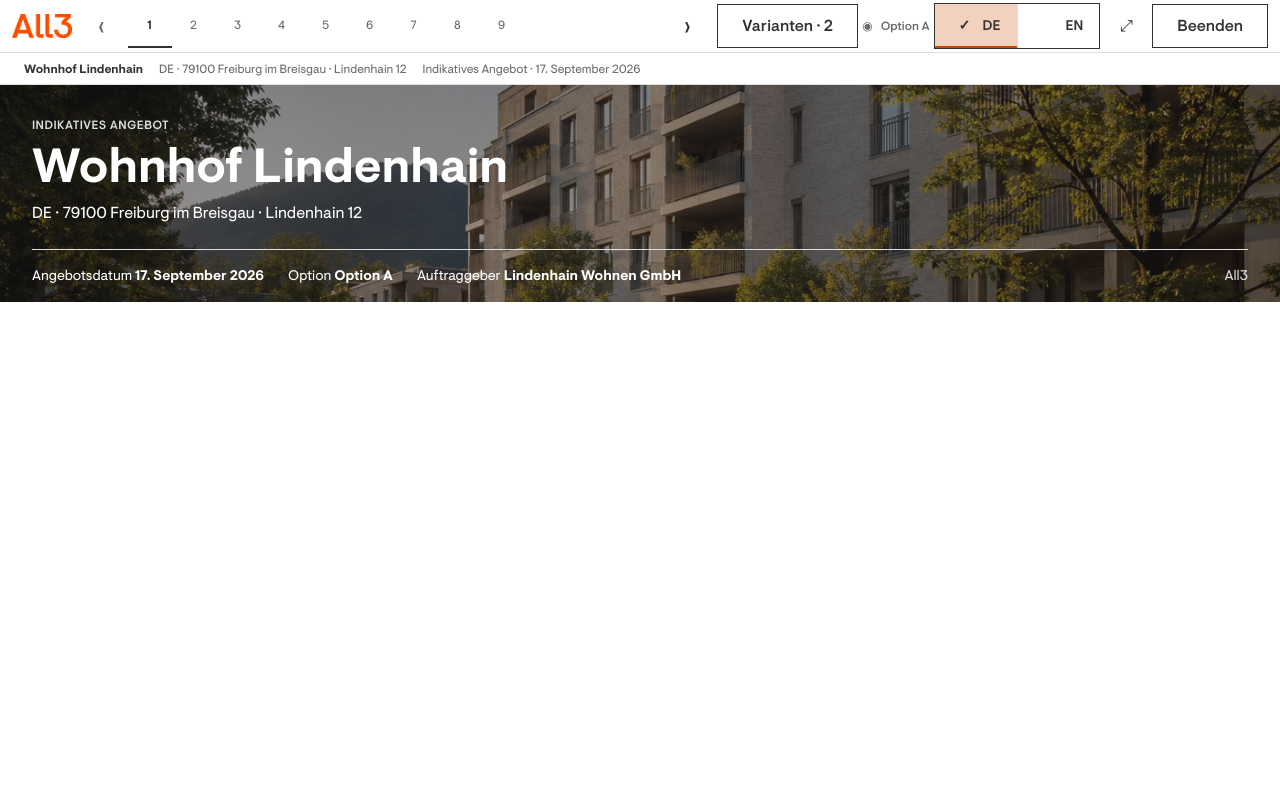
Test case: PresentationShell — mandatory Client Option Isolation Test (AC 5/15/16/21) › the Varianten layer is the ONE switch control: it keeps the chapter position and there is no second switcher in the bar
Click the button named "· Preiszusammensetzung" at x=282, y=26, box [260,4,304,48]
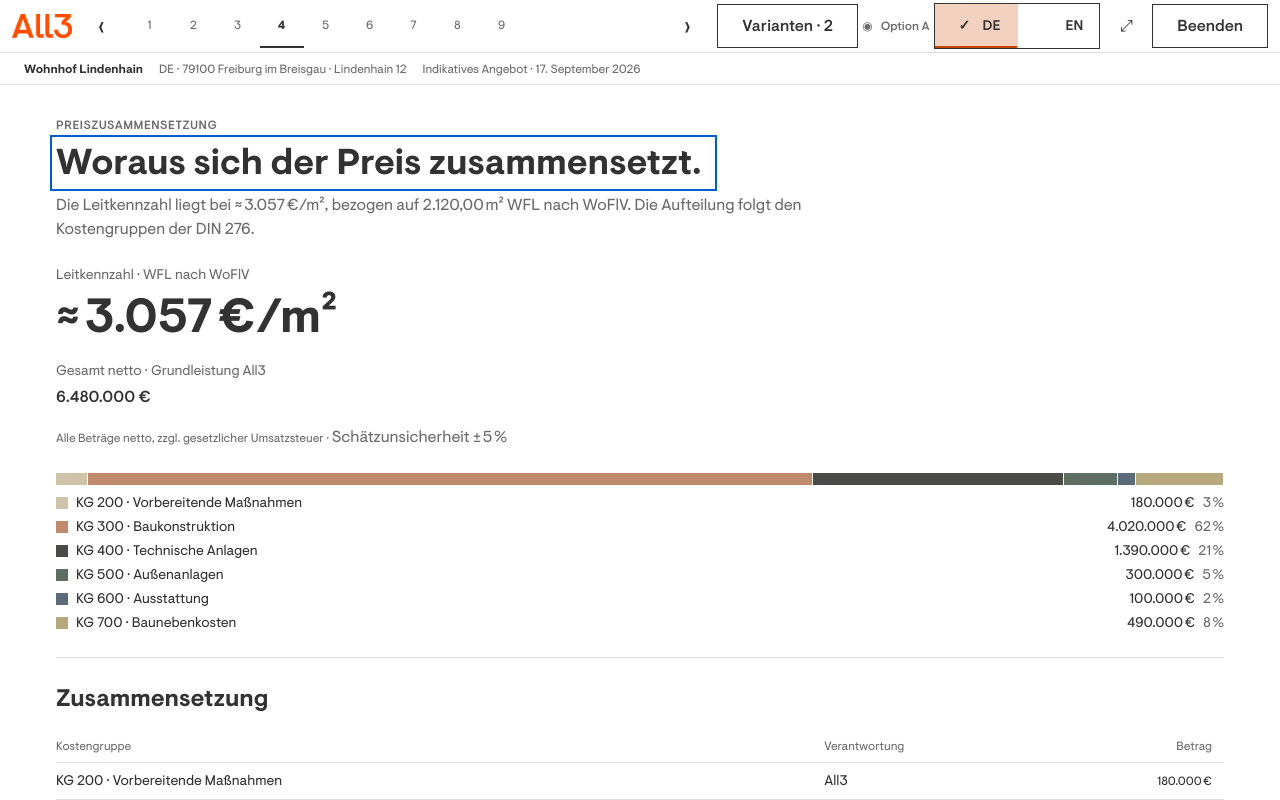
Click the button "Varianten · 2" at x=788, y=26, box [717,4,858,48]
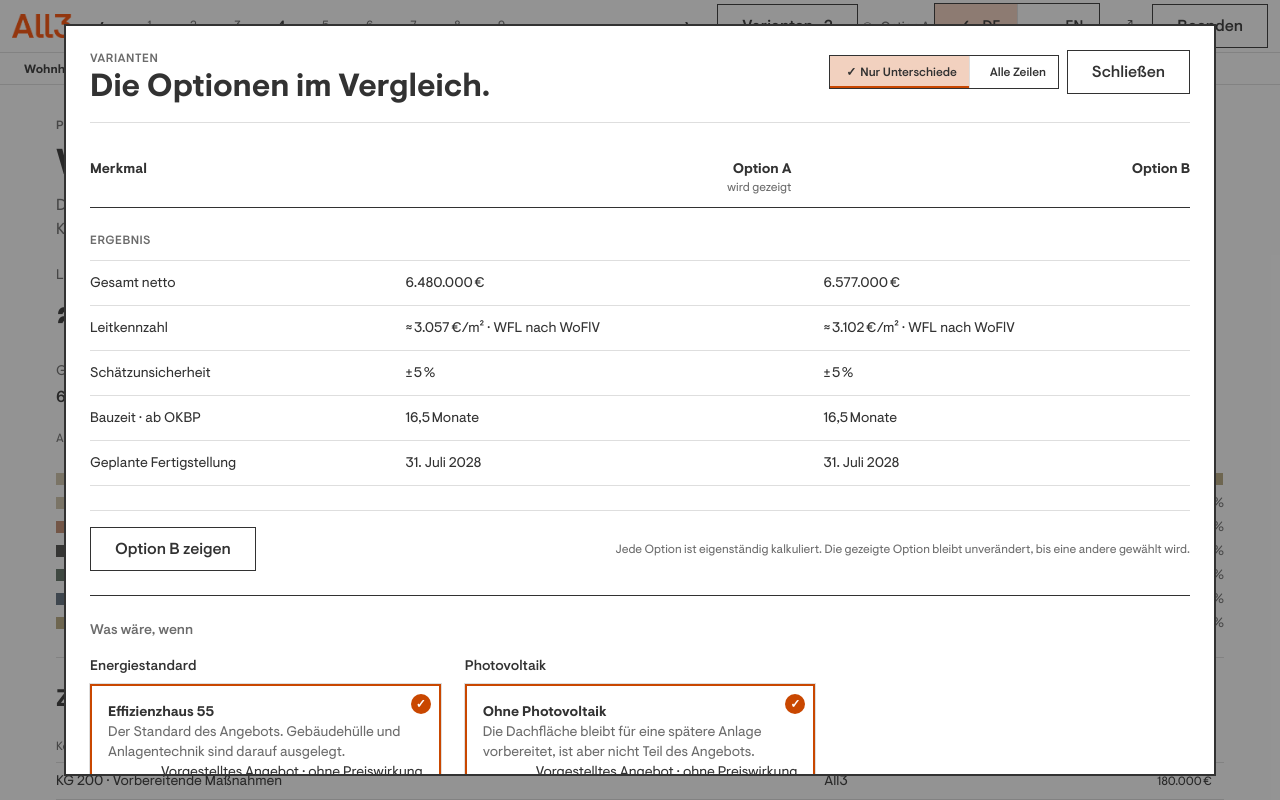
Click the button "Option B zeigen" at x=173, y=549, box [90,527,256,571]
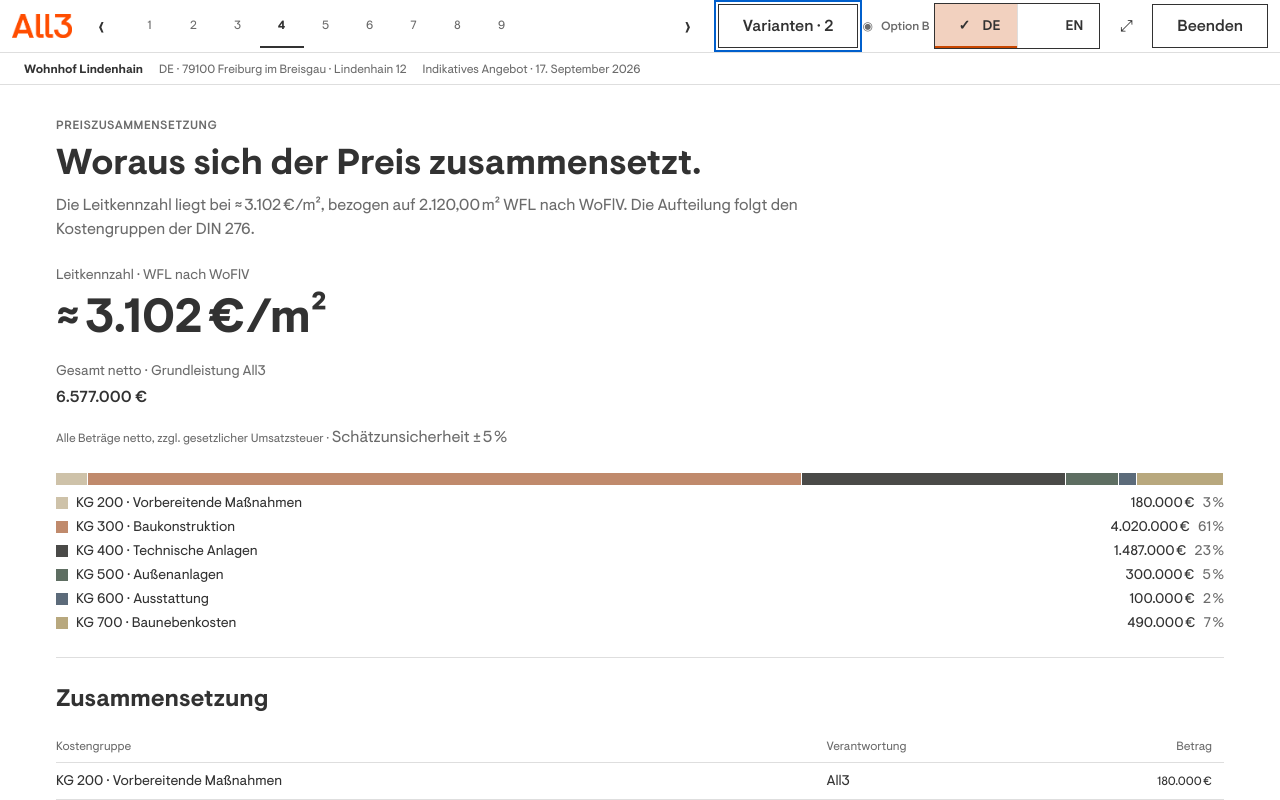
Check: the dialog is gone
